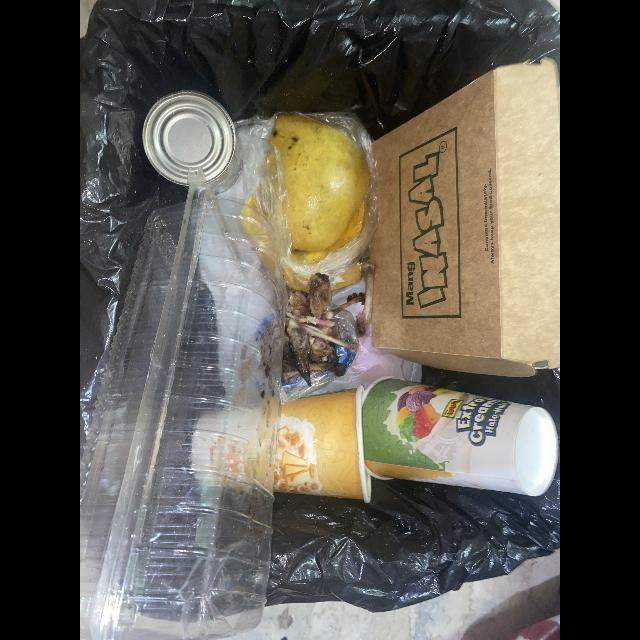aluminum: (141, 91, 238, 190)
cardboard: (370, 62, 560, 378), (360, 376, 560, 497), (272, 385, 372, 504)
left_over_food: (282, 273, 365, 387)
plastic_container: (80, 173, 286, 640)
